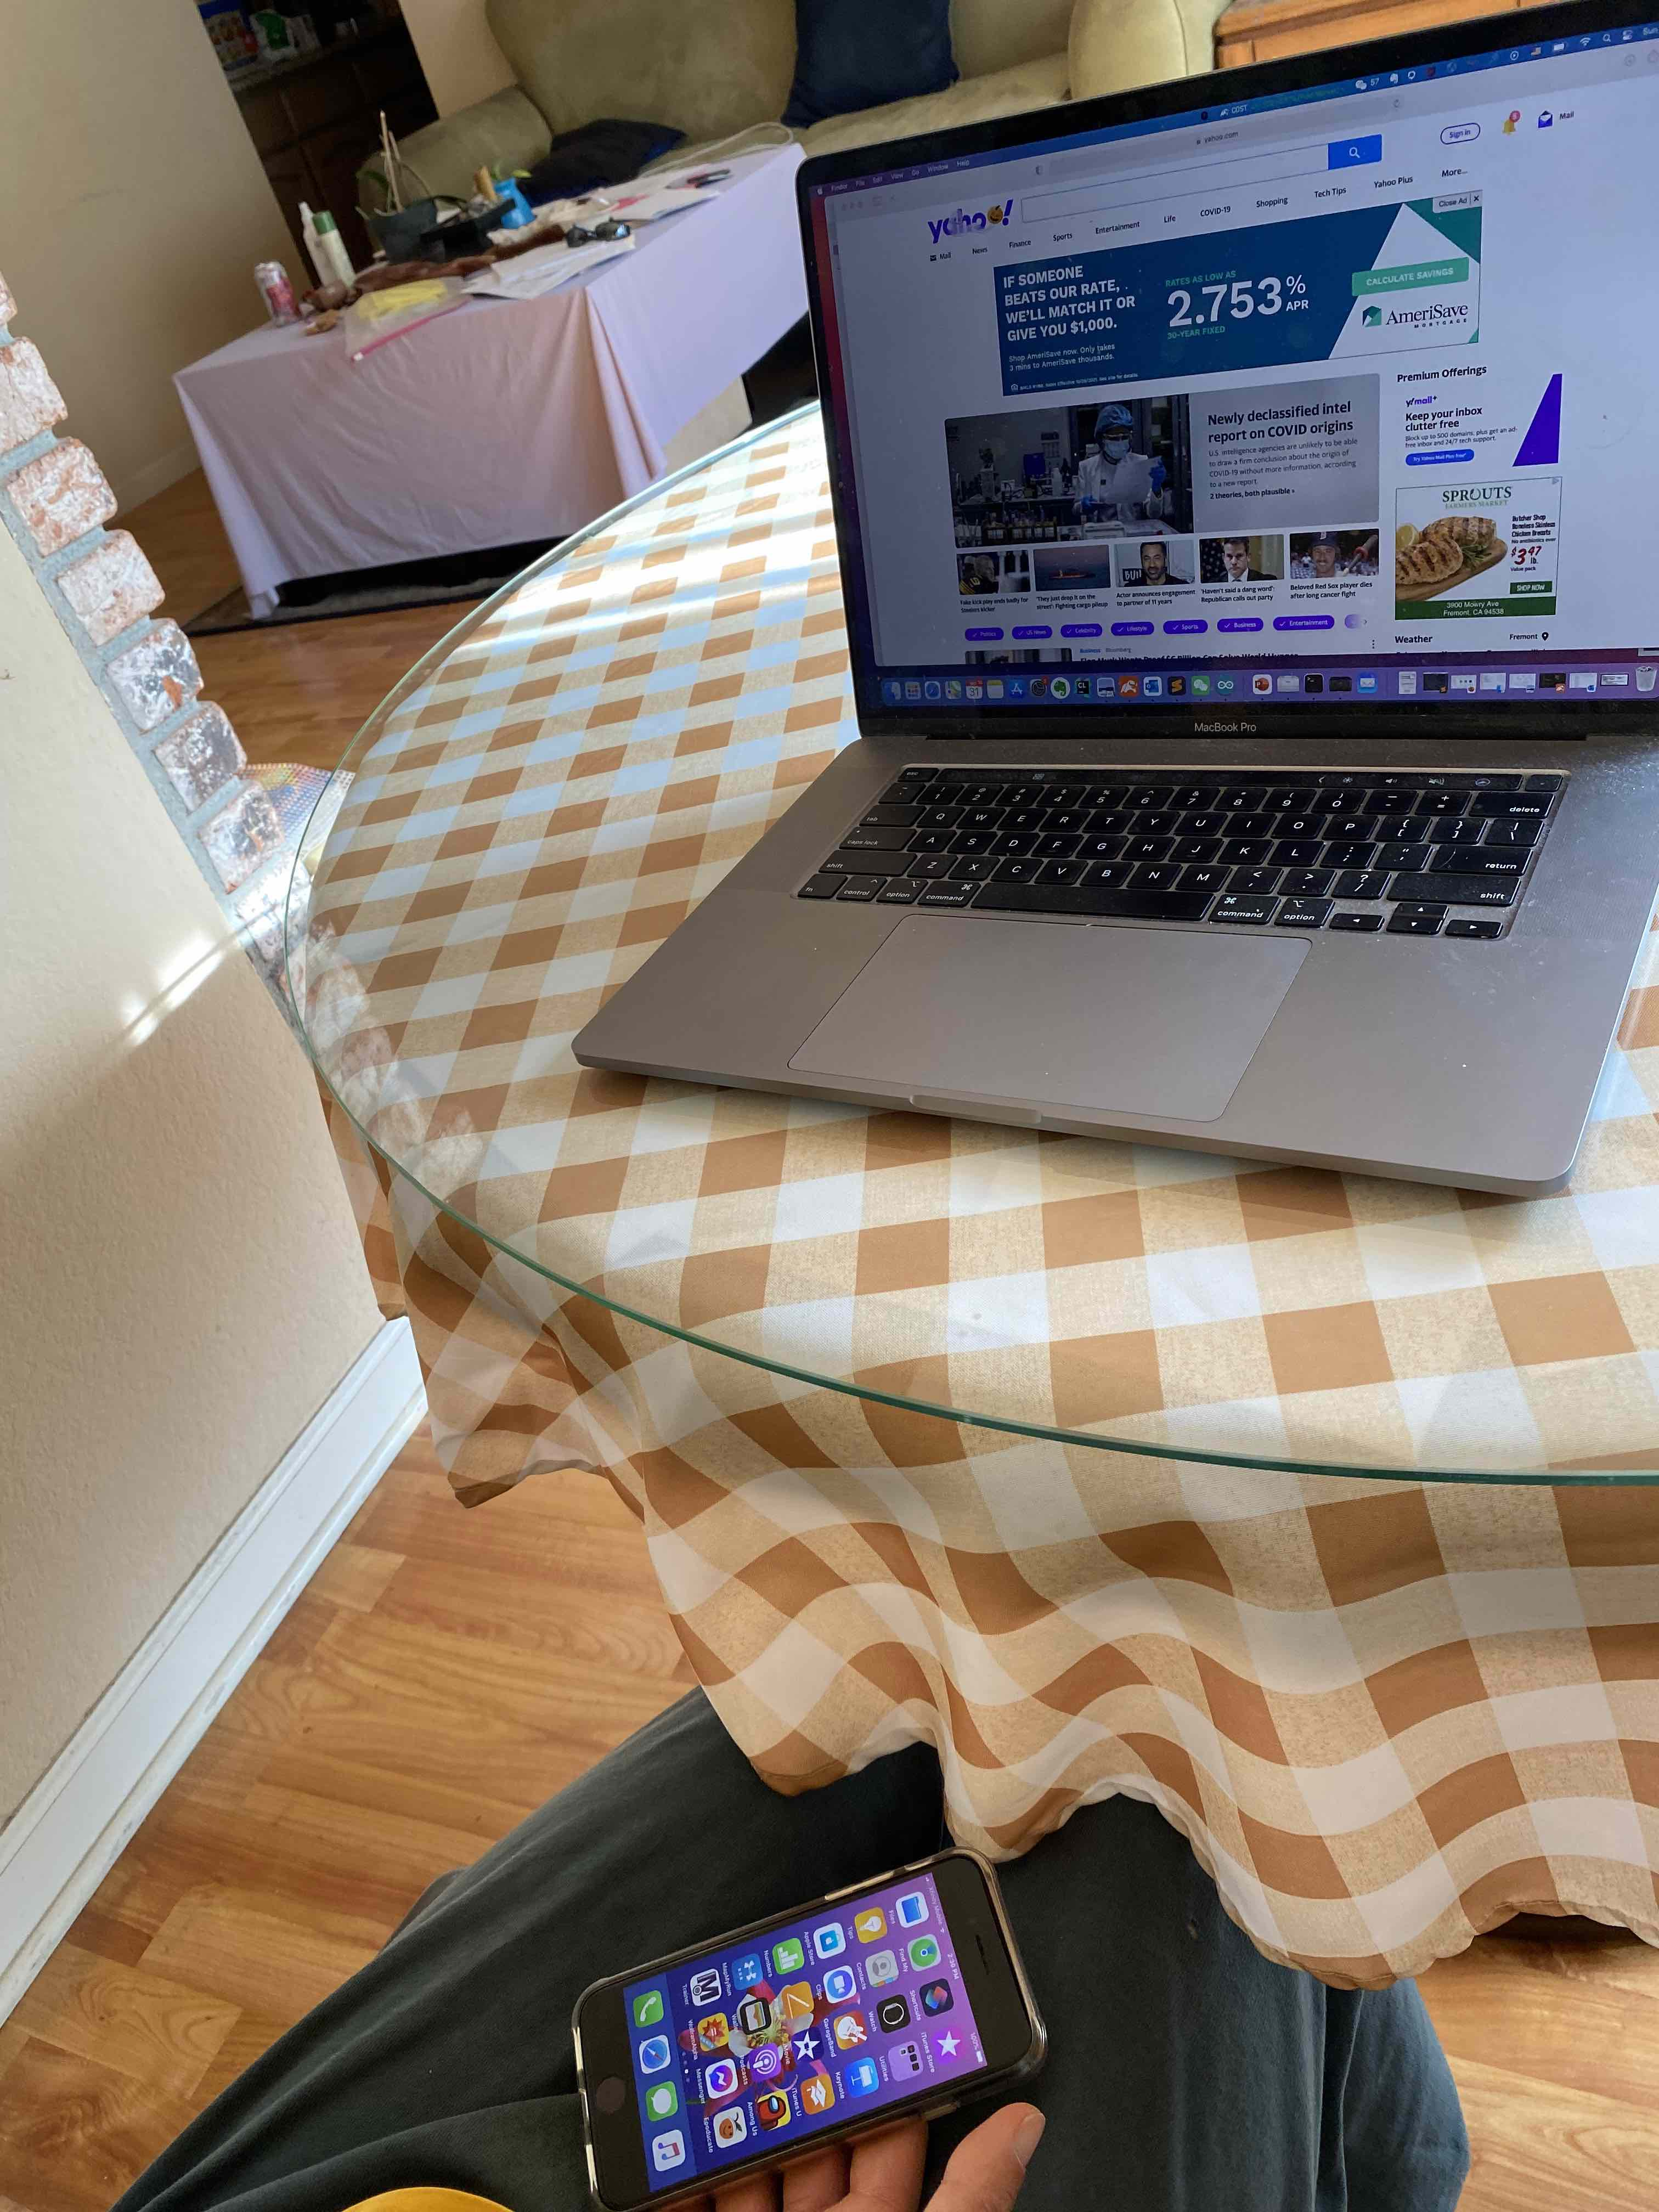Cell Phone: (568, 1848, 1039, 2189)
